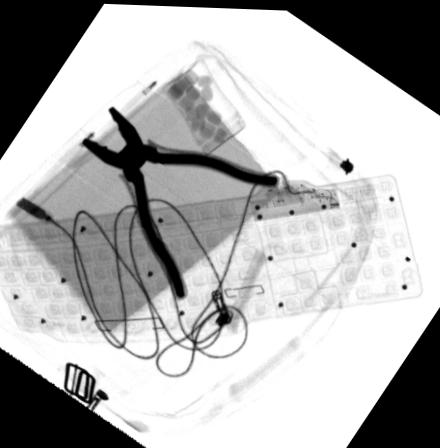Pliers: (79, 103, 281, 299)
